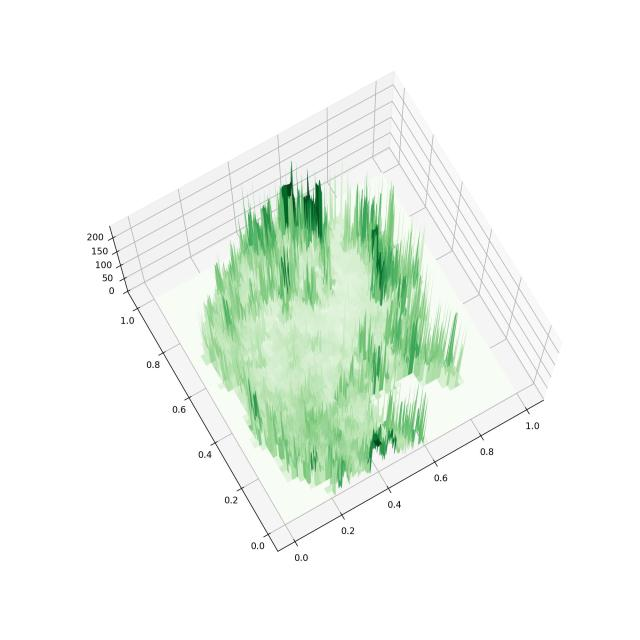pine: (54, 28, 584, 585)
